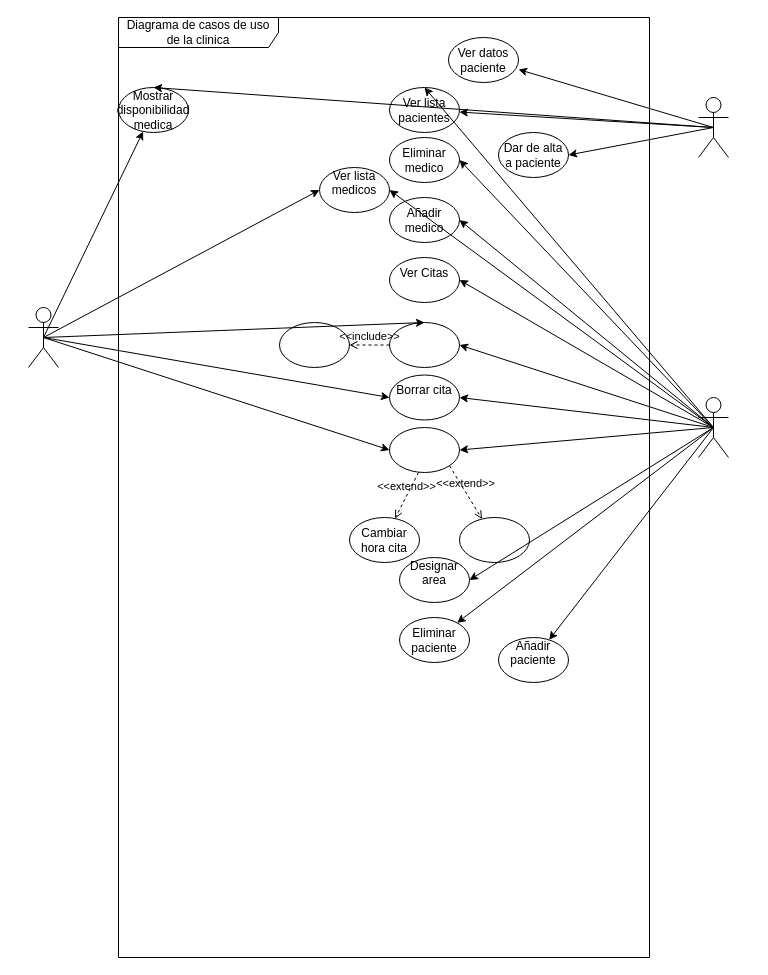
Some shapes in this 768 by 975 pixel diagram are drawn without their labels. Here are the shapes that lost their labels. From the top down, the box of each, then its label:
(698, 96, 728, 158): Medico
(28, 306, 58, 368): Pacientes
(278, 322, 350, 368): Enviar Recordatorio
(388, 322, 460, 368): Añadir Cita
(698, 396, 728, 458): Administrativo
(388, 426, 460, 472): Modificar Cita
(458, 516, 530, 562): Cambiar area sanitaria
